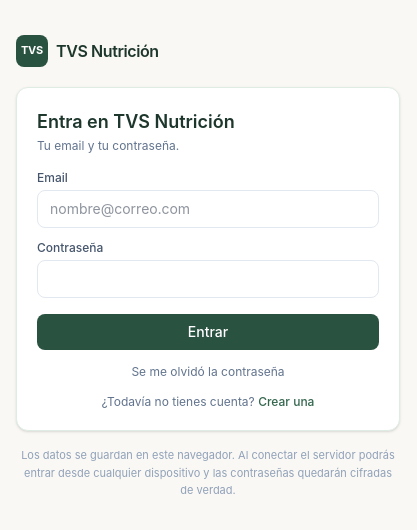
Test: Pantalla de acceso › arranca en "entrar" y deja pasar a crear cuenta
Check: the heading "Entra en TVS Nutrición" is shown, box [37,111,235,132]
Step 1. Click the button "Crear una" → (286, 402), box [258,394,314,410]
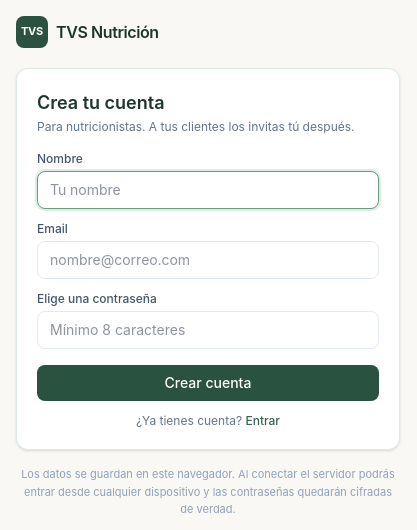
Check: the heading "Crea tu cuenta" is shown, box [37,92,165,113]
